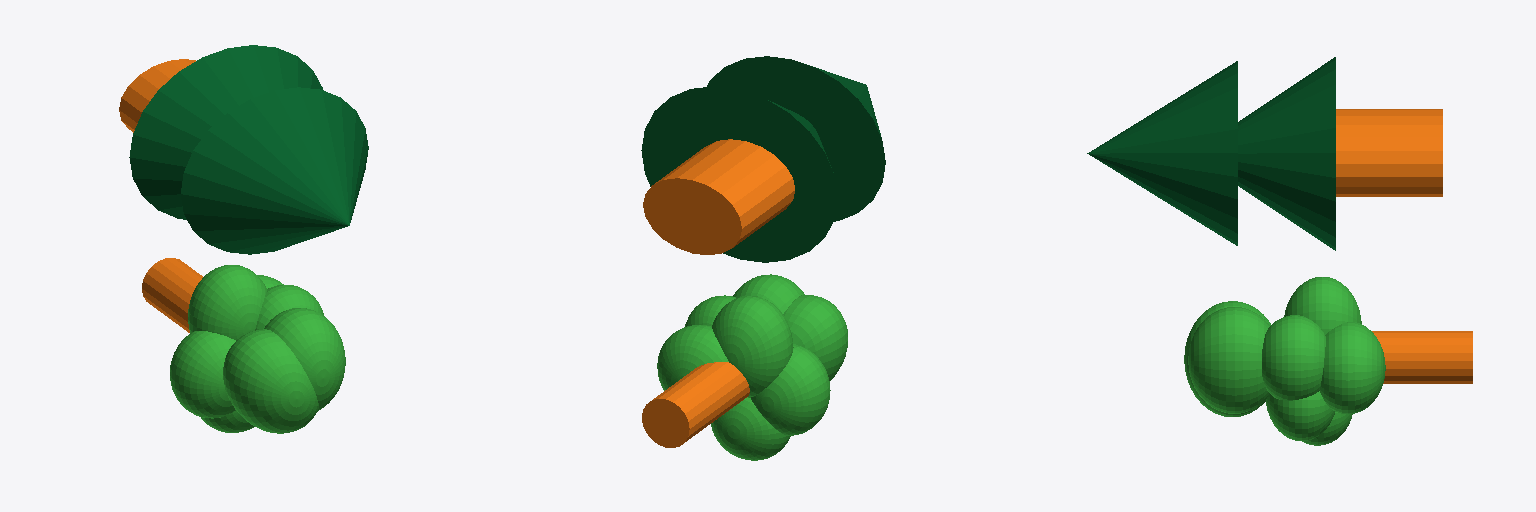
The model's file is tinker.obj.
3 views of the same model, side by side, from view 1: azimuth 30°, elevation 25°; view 2: azimuth 150°, elevation 25°; view 3: azimuth 270°, elevation 25° (orthographic).
Parts seen in each view (by area): view 1: obj_0; view 2: obj_0; view 3: obj_0.
Boxes of the visible parts, box(x1,y1,x2,y2) form: obj_0: box(119, 45, 368, 433); obj_0: box(641, 56, 885, 460); obj_0: box(1087, 57, 1472, 445).
Size of the model in its own units: 115 by 209 by 195.